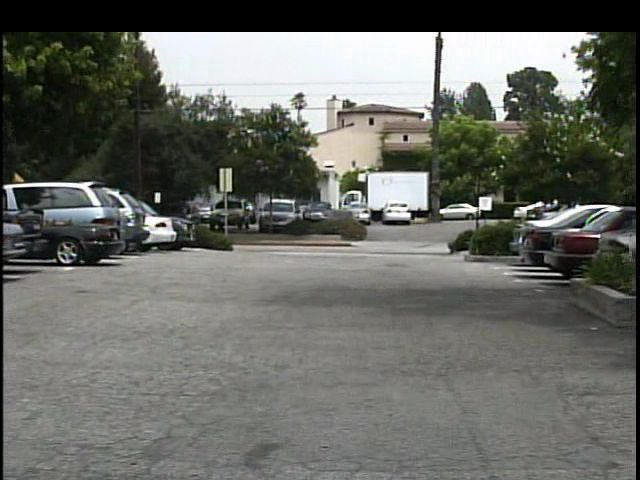person: (175, 202, 195, 241)
